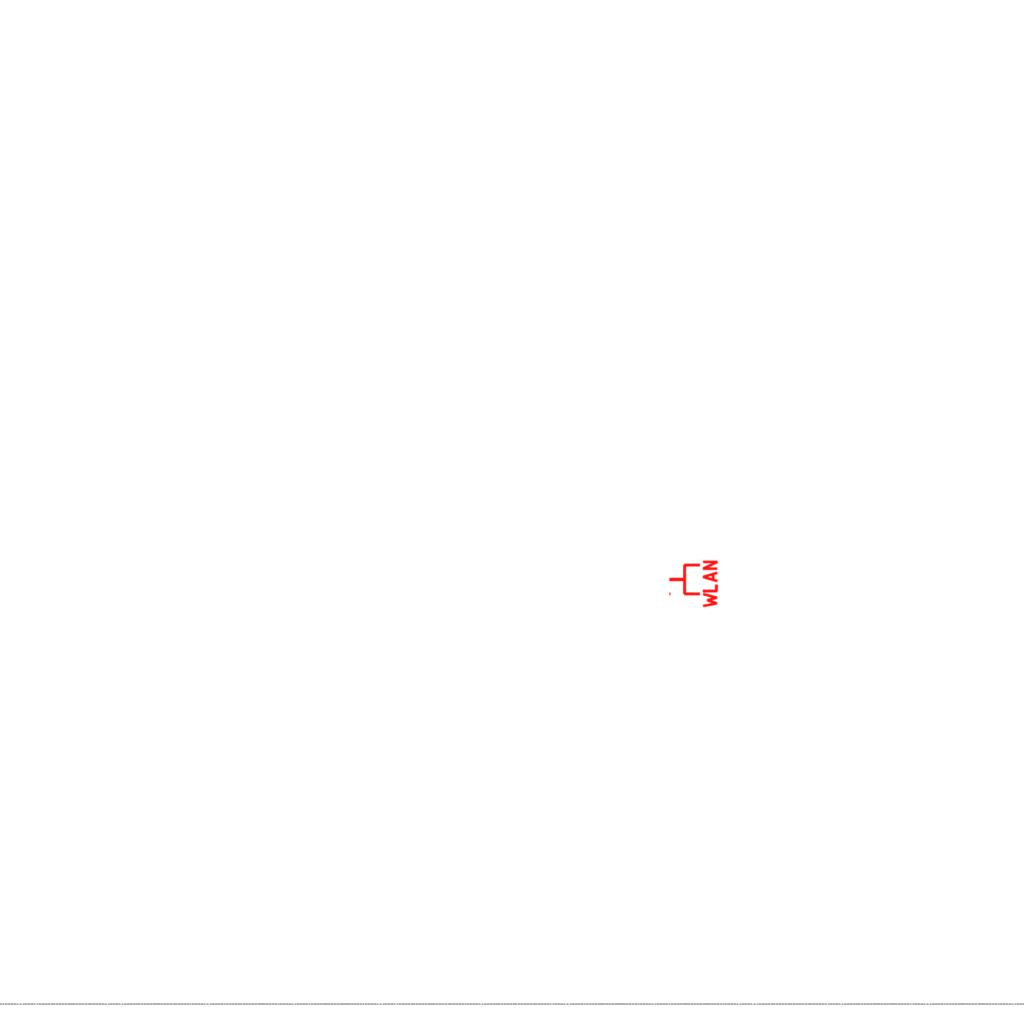WLAN: (667, 558, 719, 610)
